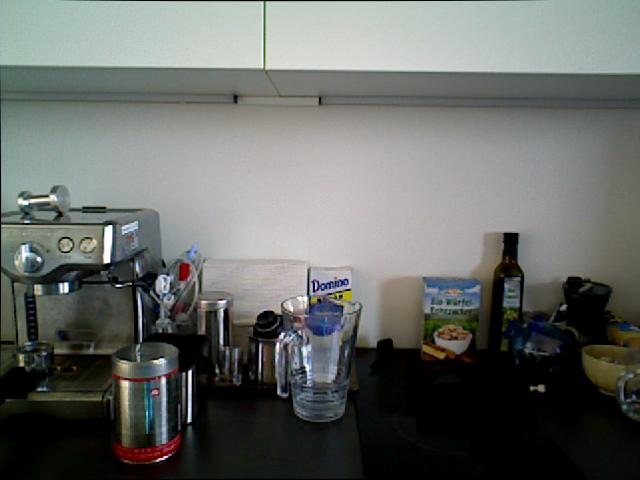bench: (487, 231, 524, 354)
bird: (580, 344, 639, 396), (429, 321, 472, 357)
handbag: (277, 293, 363, 422), (615, 360, 640, 424)
